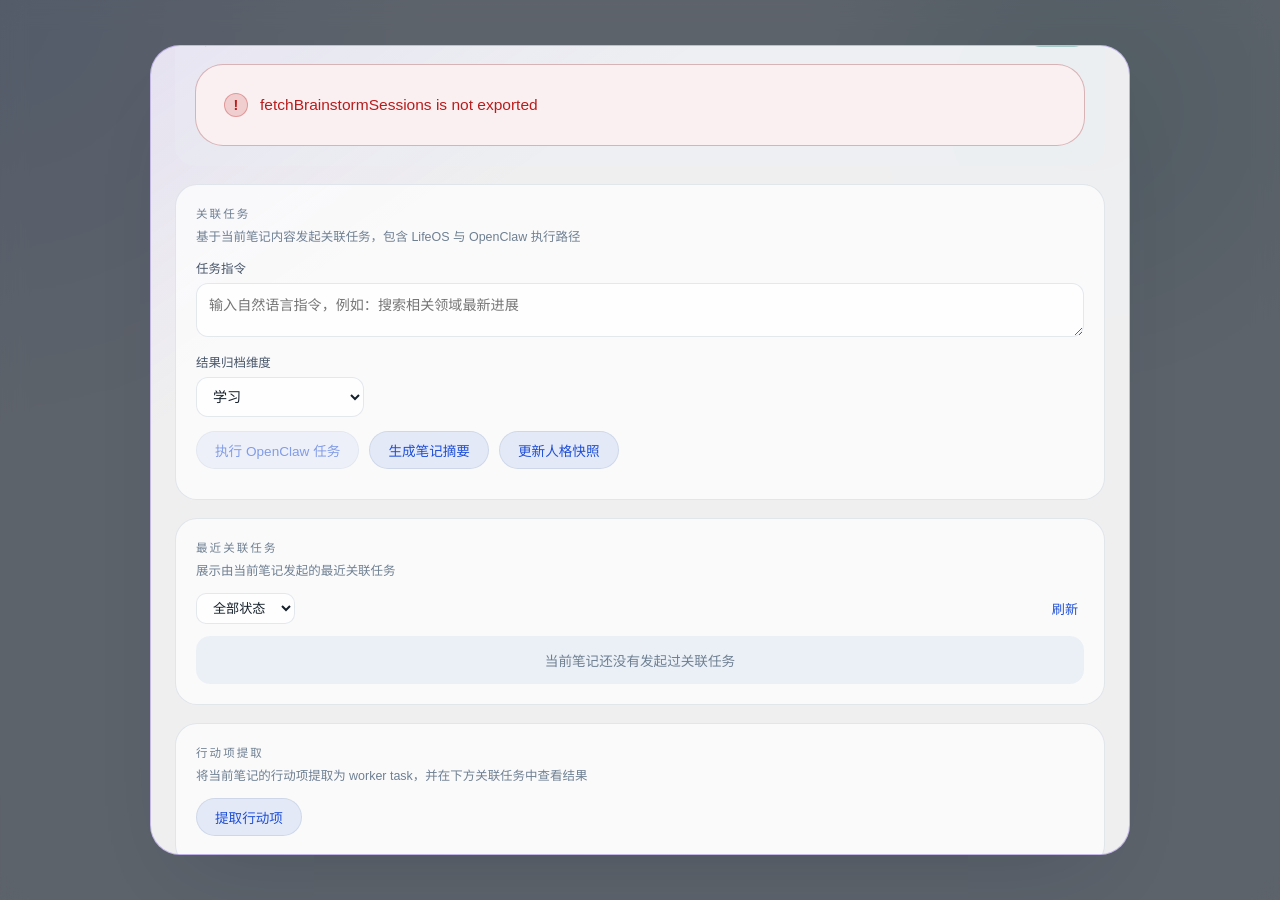
Test case: NoteDetail › renders localized worker-task metadata after creating persona snapshot task
The width and height of the screenshot is (1280, 900).
(page scrolled)
Step 1. Click the button "更新人格快照" → (559, 450), box [499,431,619,469]
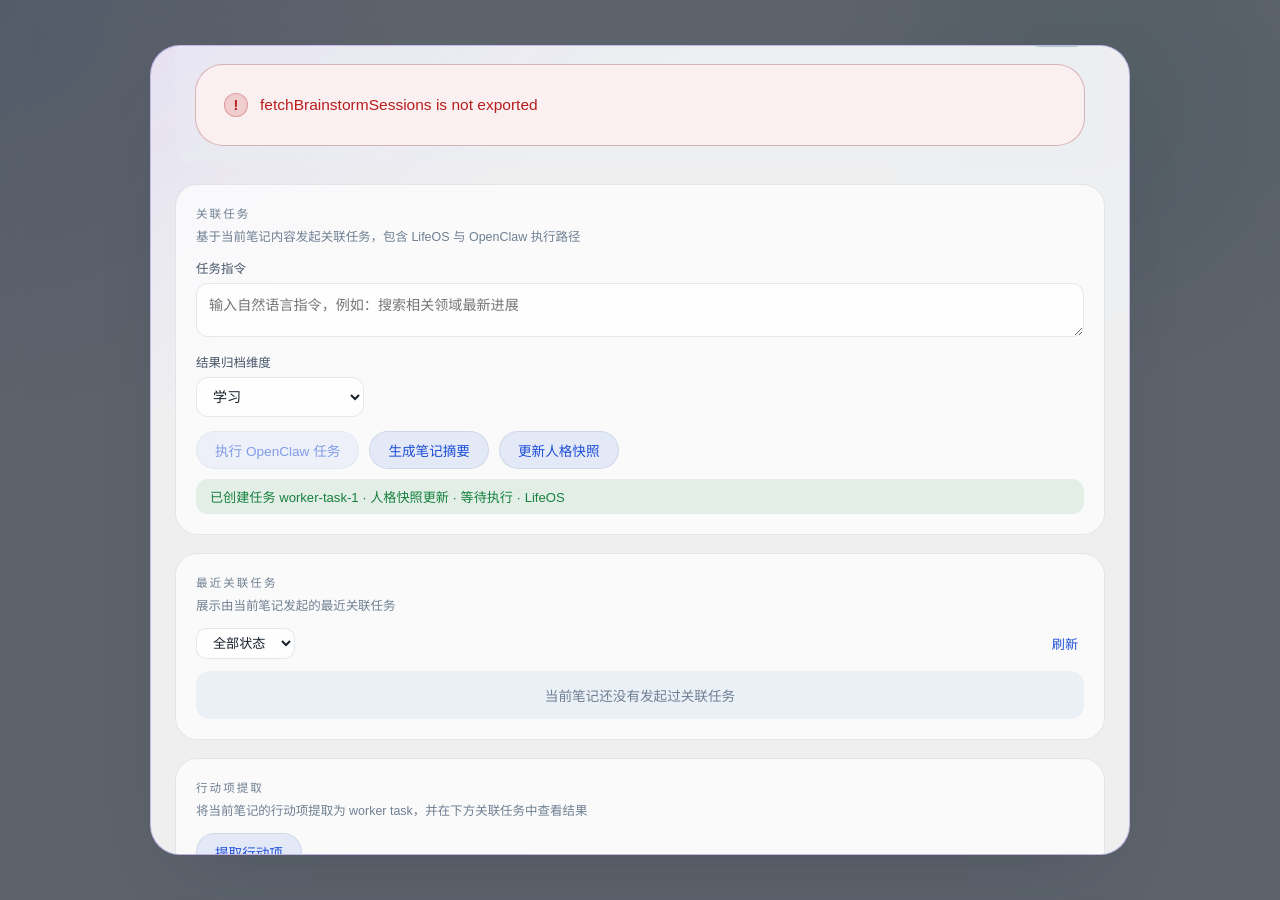
Result: the text "已创建任务 worker-task-1 · 人格快照更新 · 等待执行 · LifeOS" is shown at [196,479,1084,514]
